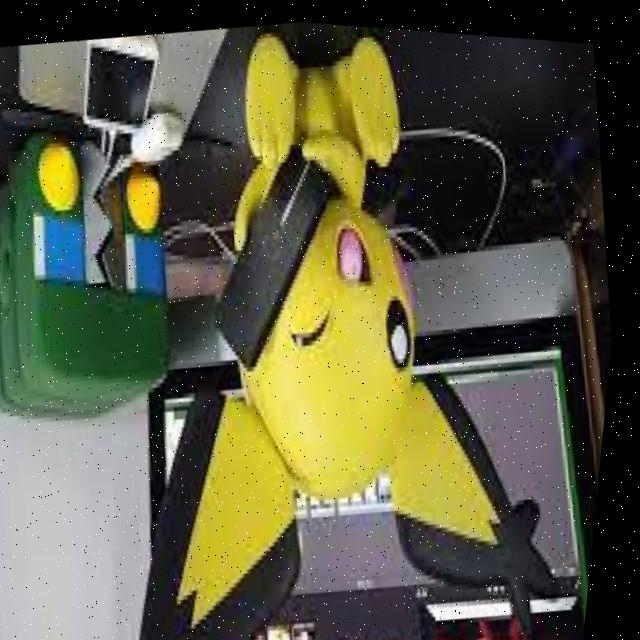pichu: (55, 6, 600, 640)
